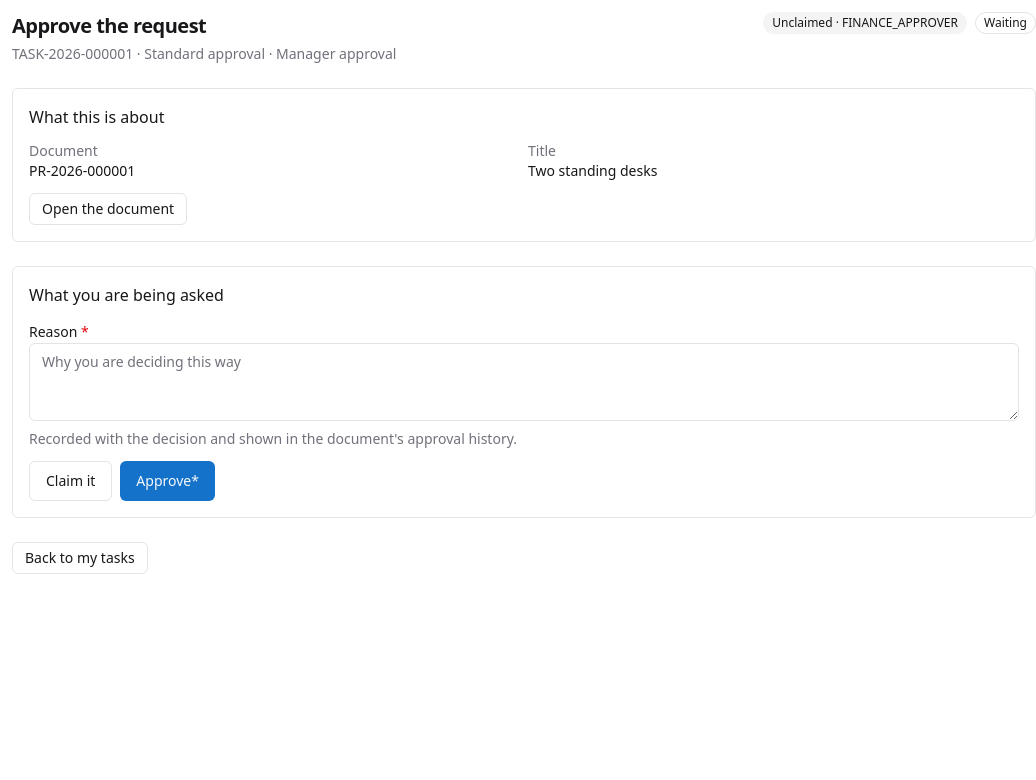
Test: TaskDetailPage › requires a reason when any edge of a collapsed action does
The width and height of the screenshot is (1036, 780).
Click the button with test id "decide-APPROVE". click: (168, 481)
box: [120,461,215,501]
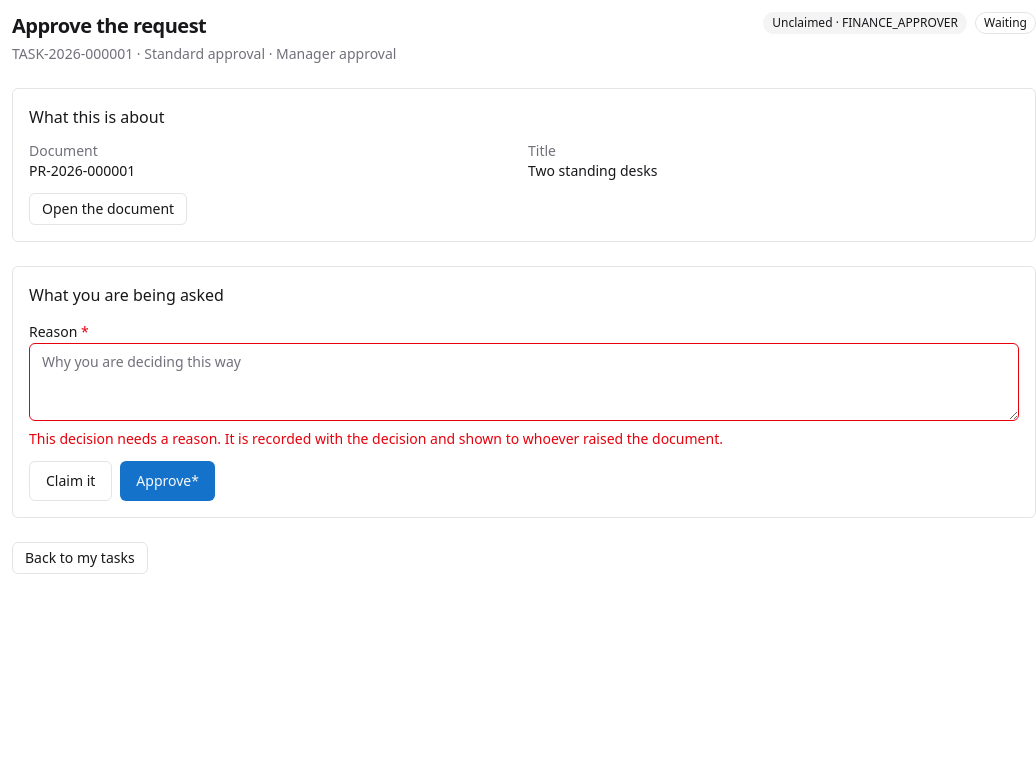
Result: the text with test id "comment-required" shows "needs a reason" at [29,429,723,448]
